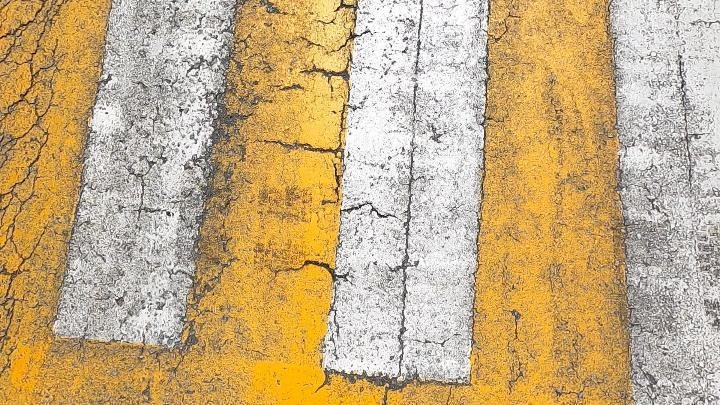Lane: (0, 0, 719, 404), (2, 1, 720, 405)
